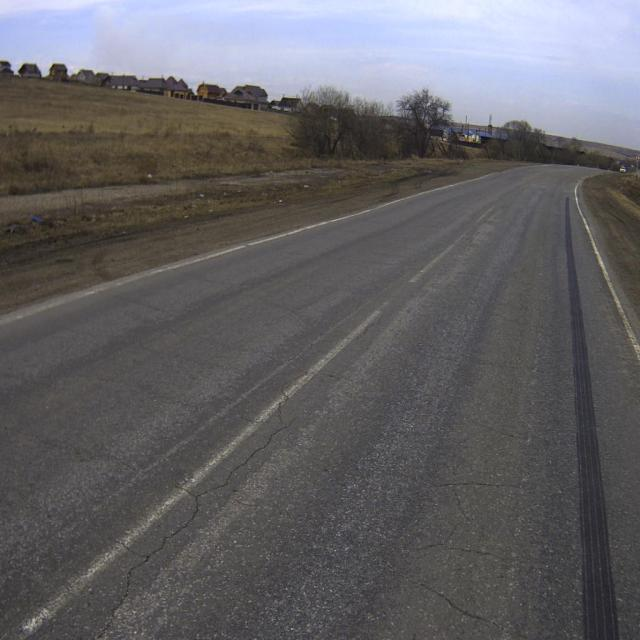road: (0, 164, 639, 639)
